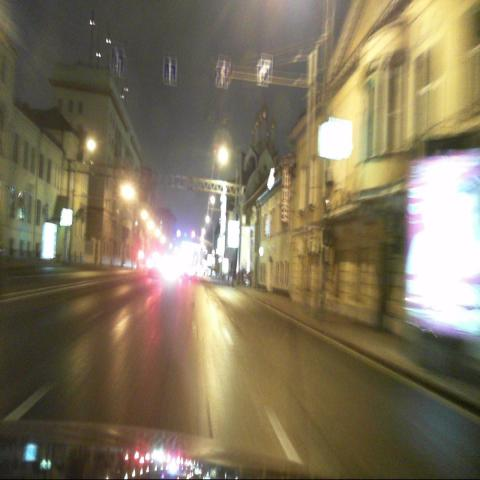5_15_2: (110, 48, 125, 75)
